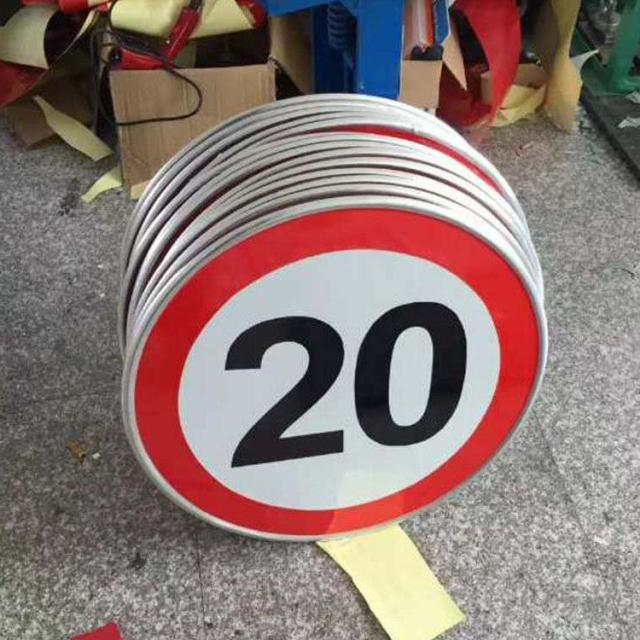speed limit 20: (120, 197, 551, 544)
